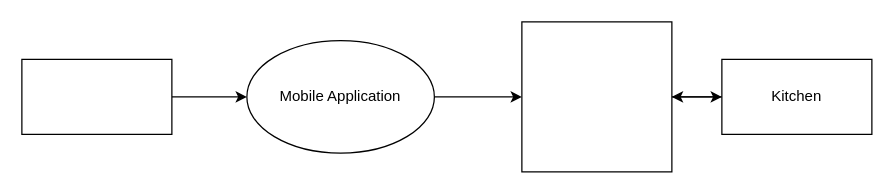
Some shapes in this 894 by 194 pixel diagram are drawn without their labels. The shapes that lost their labels are listed below. From the top down, each one's centre as x and y in pixels, then its label:
At point (96, 96): "Customer (students)".
At point (596, 96): "College Canteen (Food Ordering System)".
